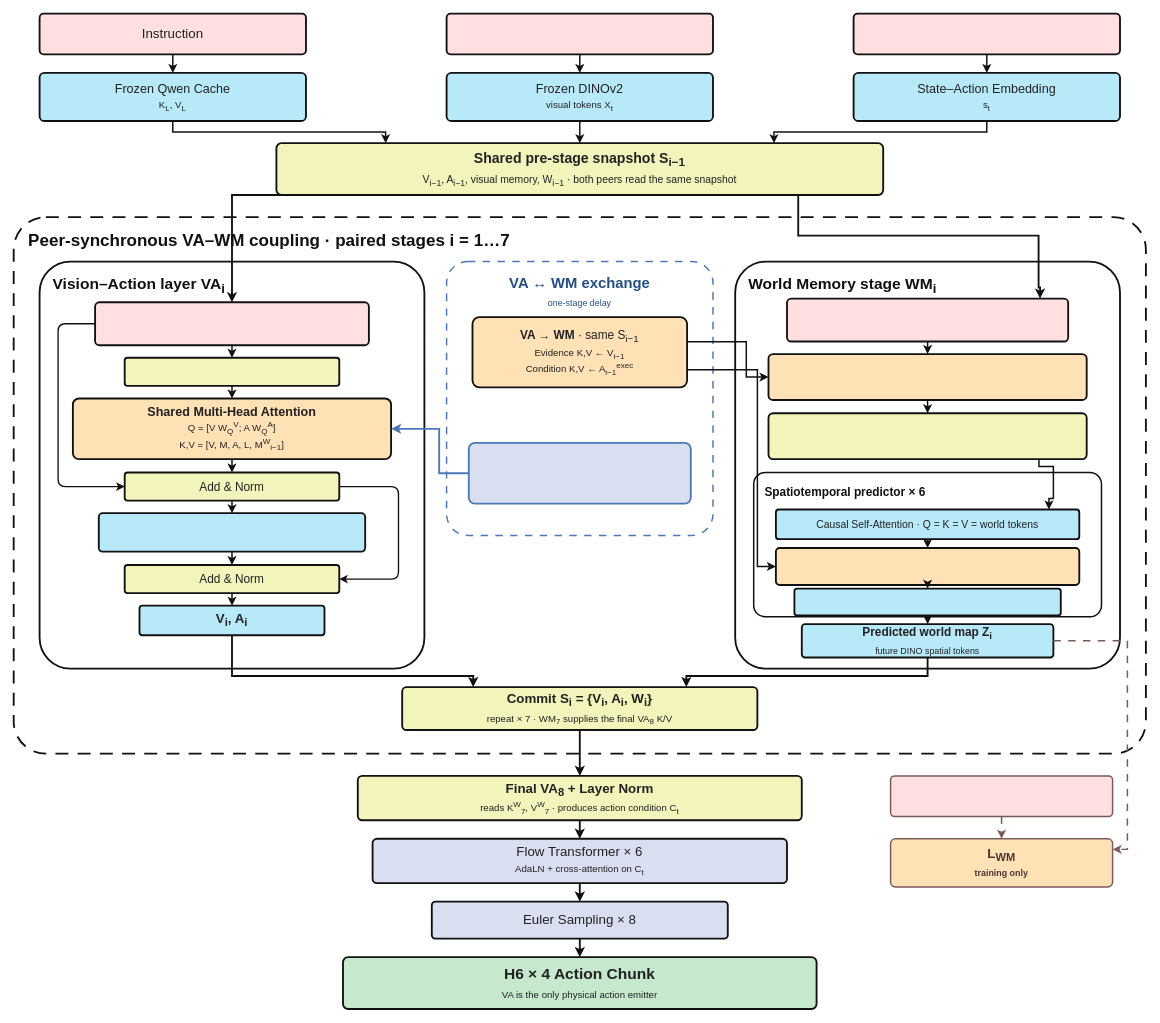
This 1160x1023 diagram has some shape labels left out. The shapes that lost their labels are listed below. From the top down, each one's centre as x and y in pixels, then its label:
point (579, 33): 4-frame Observation
point (986, 33): Robot State + Previous Action
point (231, 323): VA tokens V i−1 , A i−1
point (927, 319): DINO clip + W i−1 B i−1 , I i−1 , Z i−1
point (231, 372): Pre-Norm
point (927, 377): Evidence Cross-Attention Q = learned evidence queries · K,V = V i−1
point (927, 436): Innovation + gated belief write I i = E i − Ê i · Q = B i−1 · K,V = I i
point (579, 473): Incoming WM i−1 → VA i sg(Z i−1 ) → Proj → K W i−1 , V W i−1
point (232, 532): Feed Forward
point (927, 566): Conditional Cross-Attention Q = world tokens · K,V = A exec , B i , s, L
point (927, 601): Feed Forward + Add & Norm
point (1001, 796): sg(Z t+1 ) future DINO target
